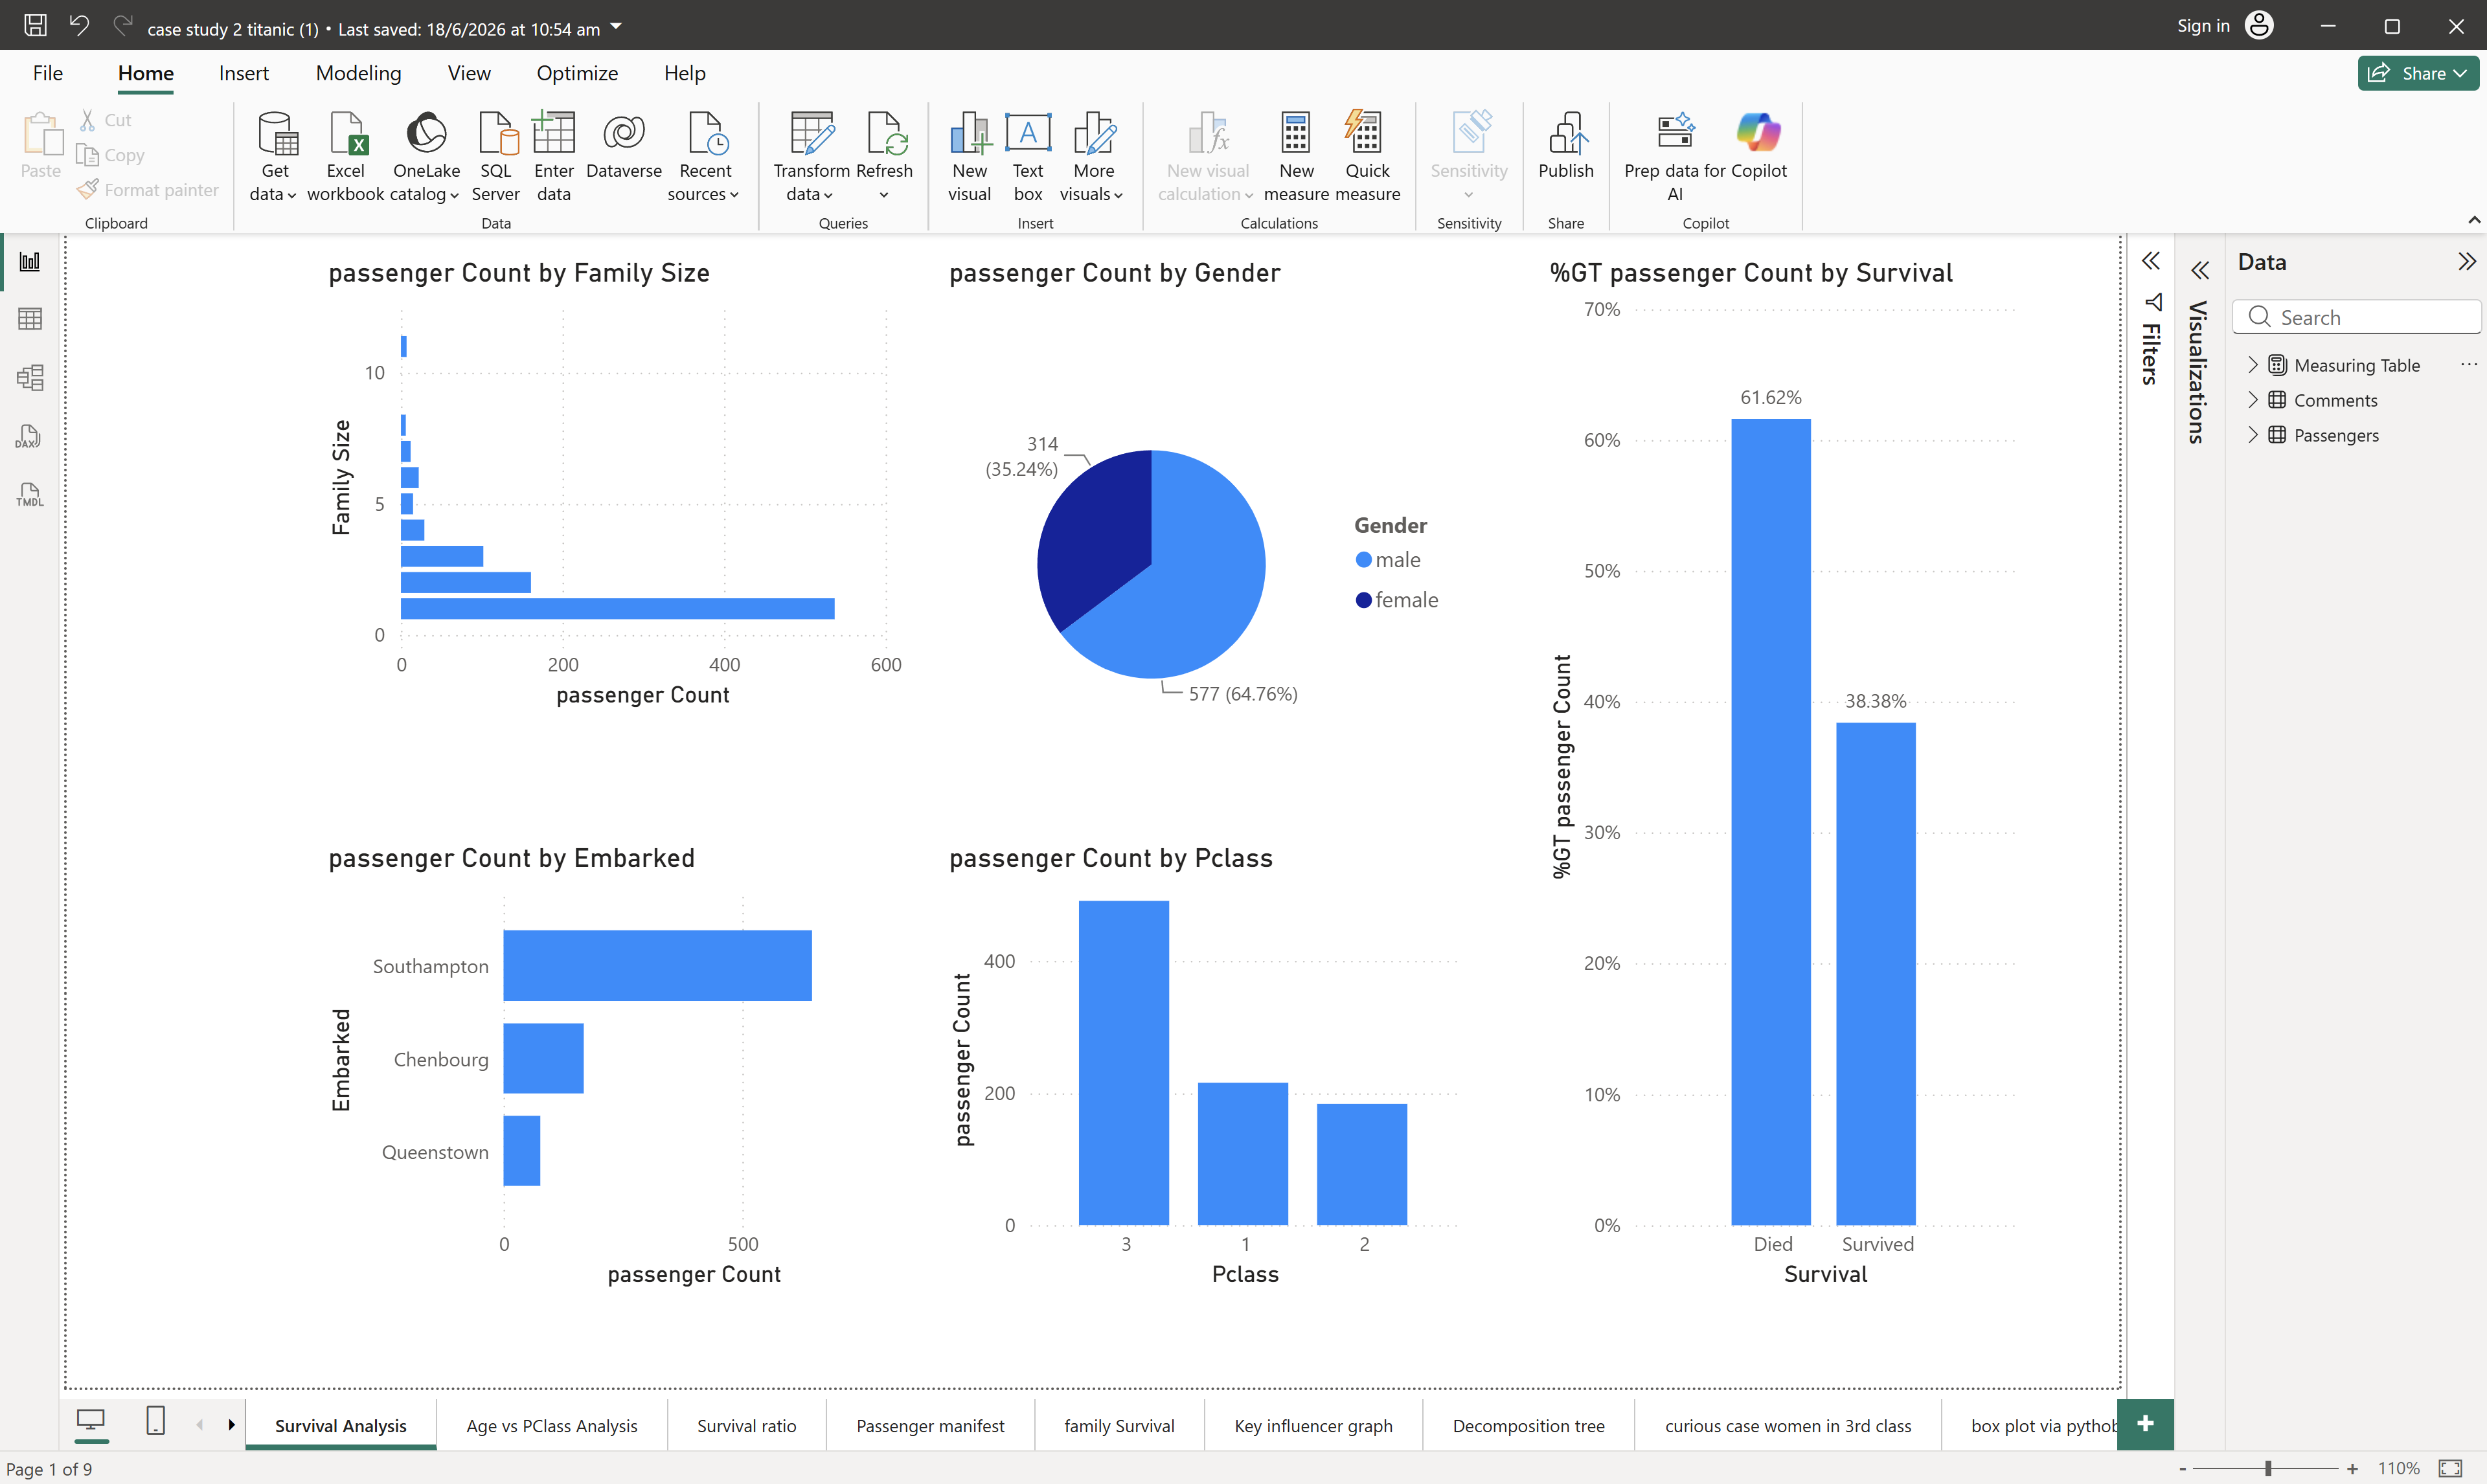

The dashboard page shown, as its layout file describes it:
{"tool":"powerbi","page":{"name":"Survival Analysis","canvas":[1280,720],"ordinal":0},"visuals":[{"type":"clusteredColumnChart","fields":{"Y":["Comments.passenger Count"],"Category":["Passengers.Survival"]},"box":[920,14.4,300,647.8],"z":0},{"type":"pieChart","fields":{"Category":["Passengers.Gender"],"Y":["Comments.passenger Count"]},"box":[545.6,14.4,328.9,365.6],"z":1000},{"type":"clusteredColumnChart","fields":{"Y":["Measuring Table.passenger Count"],"Category":["Passengers.Pclass"]},"box":[545.6,380,328.9,282.2],"z":2000},{"type":"barChart","fields":{"Category":["Passengers.Family Size"],"Y":["Measuring Table.passenger Count"]},"box":[157.8,14.4,367.8,286.7],"z":3000},{"type":"barChart","fields":{"Category":["Passengers.Embarked"],"Y":["Measuring Table.passenger Count"]},"box":[157.8,380,367.8,282.2],"z":4000}]}

Visuals, with their boxes on the page's 1280x720 design canvas (x1, y1, x2, y2). These are canvas units, not pixel positions in the 2487x1484 screenshot, which may show the page scaled, cropped or inside an application window:
clusteredColumnChart - Comments.passenger Count x Passengers.Survival: 920:14:1220:662
pieChart - Passengers.Gender x Comments.passenger Count: 546:14:874:380
clusteredColumnChart - Measuring Table.passenger Count x Passengers.Pclass: 546:380:874:662
barChart - Passengers.Family Size x Measuring Table.passenger Count: 158:14:526:301
barChart - Passengers.Embarked x Measuring Table.passenger Count: 158:380:526:662
